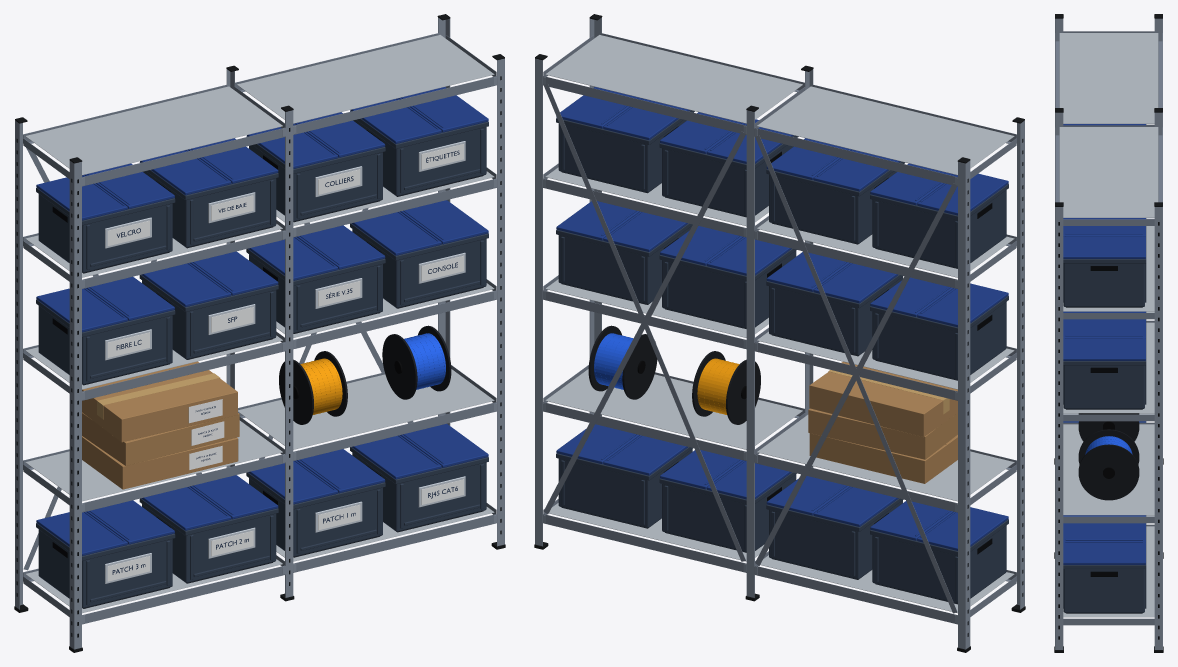
The model's file is shelving.glb.
3 renders of one model, left to right at view 1: azimuth 30°, elevation 25°; view 2: azimuth 150°, elevation 25°; view 3: azimuth 270°, elevation 25°, orthographic. The views are drawn at different scales.
Parts seen in each view (by area): view 1: Shelving; view 2: Shelving; view 3: Shelving.
Part boxes in pixels (bbox=[...]): Shelving: bbox=[14, 14, 505, 652]; Shelving: bbox=[534, 14, 1025, 652]; Shelving: bbox=[1054, 14, 1163, 652].
Bounding box in the file's own units: 1.94 × 2.11 × 0.466.
